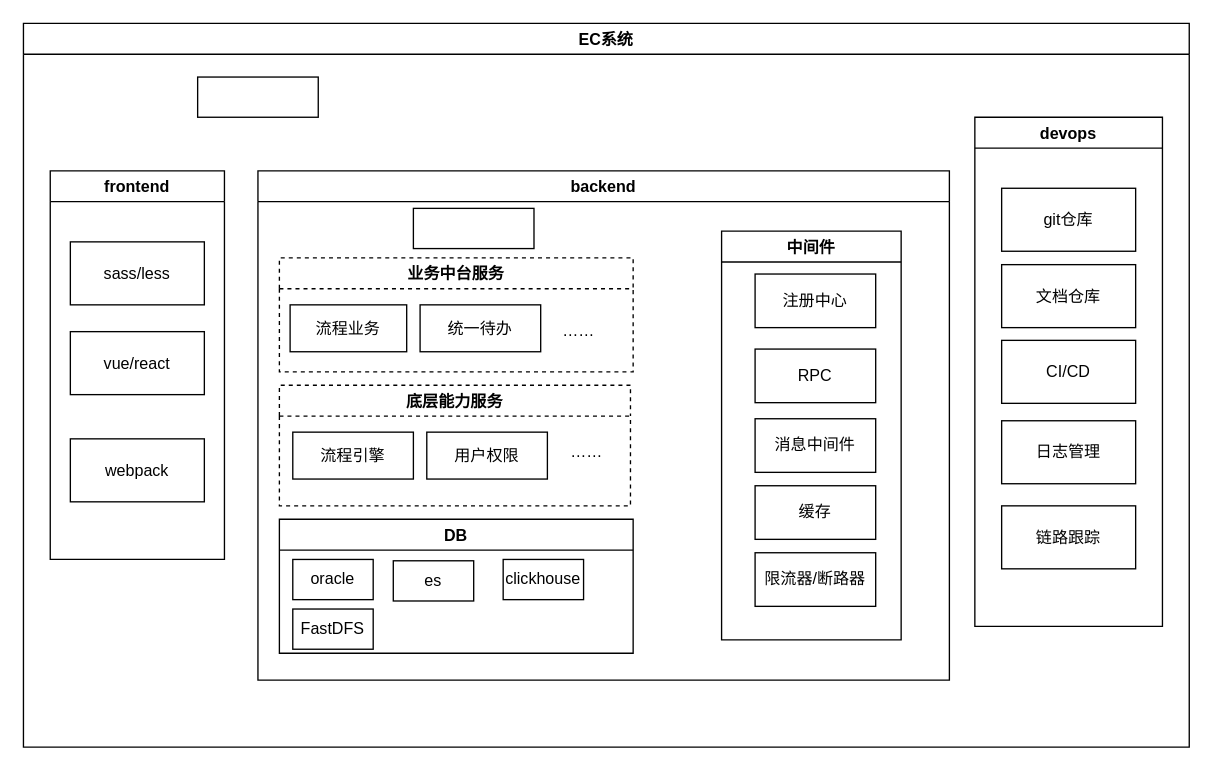
The diagram is 1213 pixels wide and 771 high, and some of its shapes have lost their labels. Here are the shapes that lost their labels. From the top down, the centre of each, then its label:
pixel 257 96: Nginx
pixel 473 228: gateway
